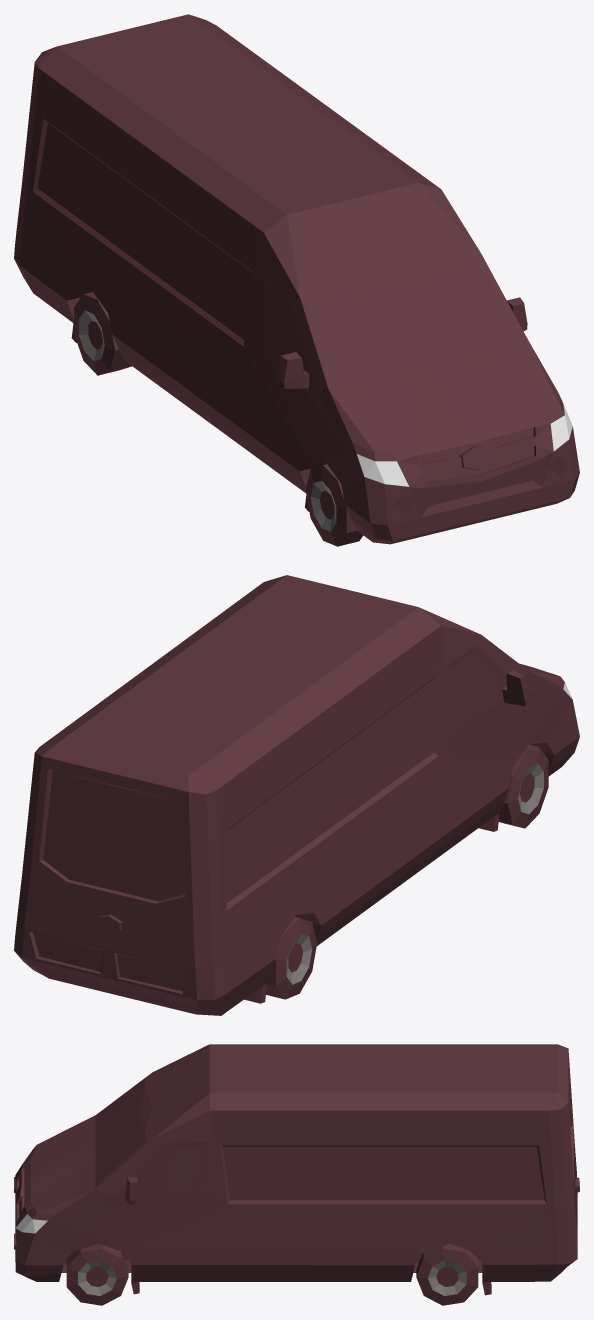
File: car-van-long.fbx
3 renders of one model, top to bottom at view 1: azimuth 30°, elevation 25°; view 2: azimuth 150°, elevation 25°; view 3: azimuth 270°, elevation 25°, orthographic. The views are drawn at different scales.
Visible parts, largest first — view 1: car-van-long-base, car-van-long-wheel_FR, car-van-long-wheel_BR; view 2: car-van-long-base, car-van-long-wheel_BR, car-van-long-wheel_FR; view 3: car-van-long-base, car-van-long-wheel_FL, car-van-long-wheel_BL.
Boxes of the visible parts, x1=… form: car-van-long-base: x1=14, y1=14, x2=579, y2=544; car-van-long-wheel_FR: x1=305, y1=464, x2=362, y2=546; car-van-long-wheel_BR: x1=74, y1=292, x2=131, y2=375; car-van-long-base: x1=14, y1=575, x2=579, y2=1015; car-van-long-wheel_BR: x1=266, y1=917, x2=317, y2=999; car-van-long-wheel_FR: x1=498, y1=744, x2=548, y2=828; car-van-long-base: x1=14, y1=1044, x2=579, y2=1295; car-van-long-wheel_FL: x1=66, y1=1244, x2=128, y2=1305; car-van-long-wheel_BL: x1=416, y1=1244, x2=478, y2=1305.
Bounding box in the file's own units: 2.65 × 2.73 × 6.99.
